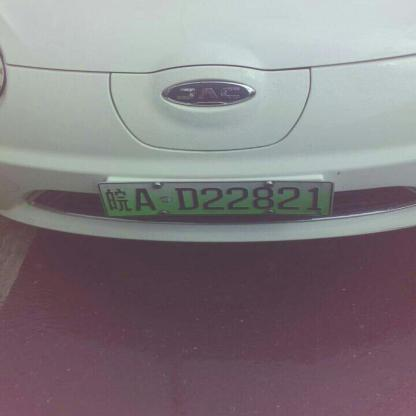lp: (100, 182, 330, 215)
